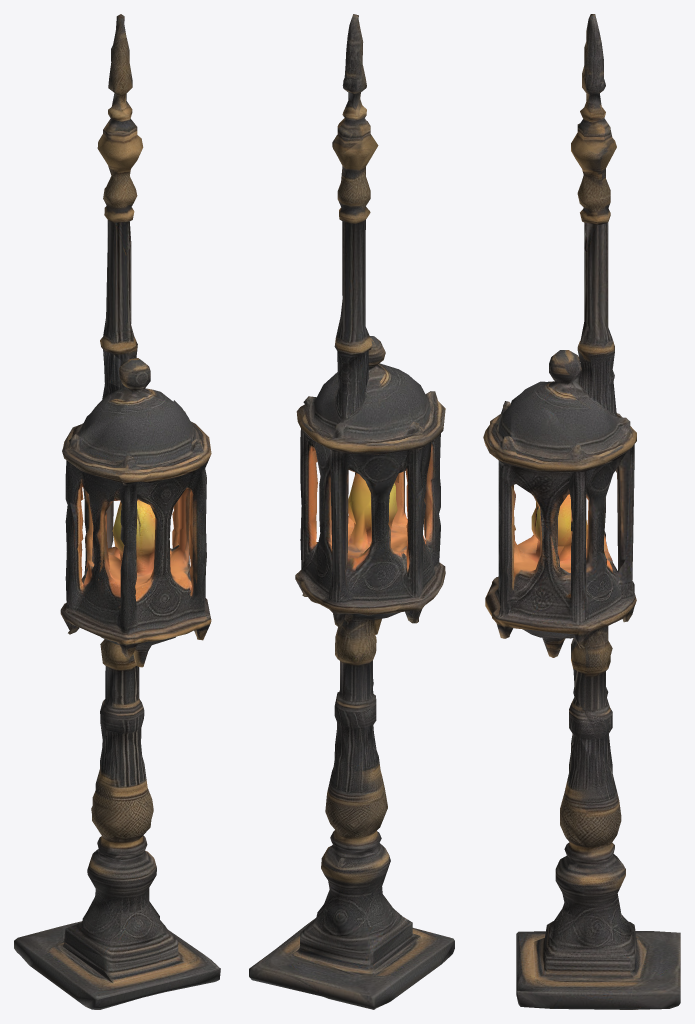
File: Aurion_Street_Lamp_LOD0.glb
The picture shows the model from 3 angles, left to right: view 1: azimuth 30°, elevation 25°; view 2: azimuth 150°, elevation 25°; view 3: azimuth 270°, elevation 25°; orthographic projection.
Visible parts, largest first — view 1: Mesh_0; view 2: Mesh_0; view 3: Mesh_0.
Part boxes in pixels (box(x1,y1,x2,y2)): Mesh_0: box(14, 14, 220, 1009); Mesh_0: box(249, 14, 454, 1009); Mesh_0: box(483, 14, 680, 1009).
Size of the model in its own units: 0.2699 by 1.9 by 0.3521.
Materials: 1 (1 with a texture image).
